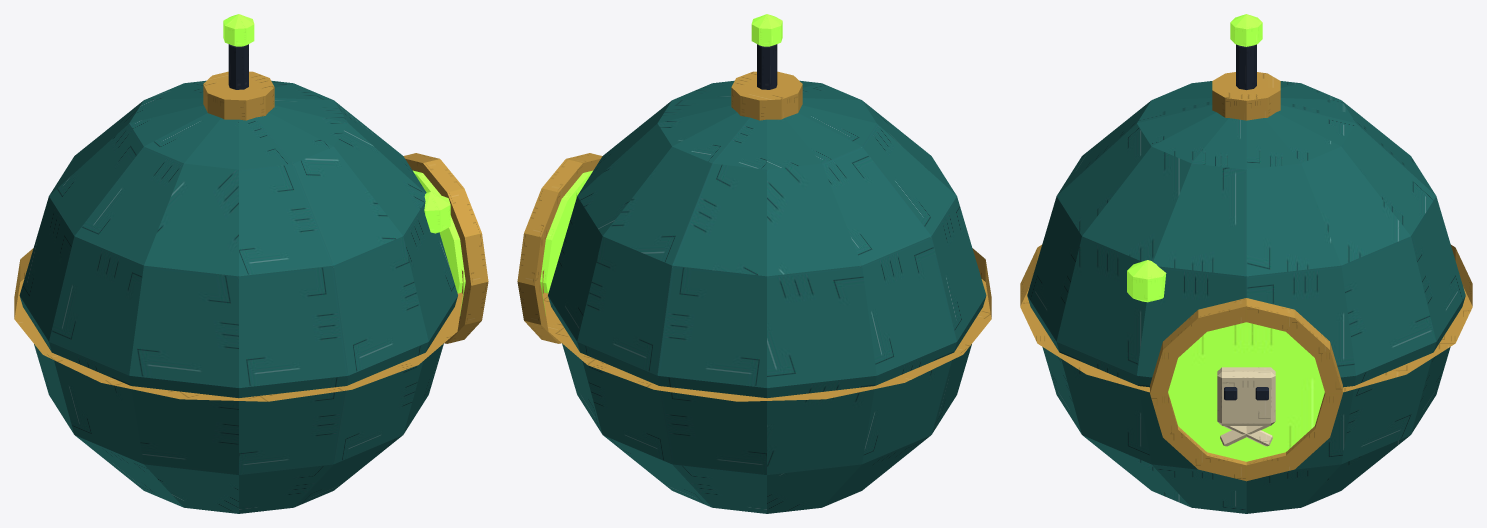
File: venom.glb
3 renders of one model, left to right at view 1: azimuth 30°, elevation 25°; view 2: azimuth 150°, elevation 25°; view 3: azimuth 270°, elevation 25°, orthographic.
Visible parts, largest first — view 1: body, fuse; view 2: body, fuse; view 3: body, fuse.
Boxes of the visible parts, left/top/right/bottom form: body: left=14, top=71, right=488, bottom=513; fuse: left=223, top=14, right=254, bottom=89; body: left=517, top=71, right=991, bottom=513; fuse: left=751, top=14, right=782, bottom=89; body: left=1020, top=72, right=1472, bottom=513; fuse: left=1230, top=14, right=1262, bottom=89.
Bounding box in the file's own units: 0.363 × 0.3987 × 0.3406.
Materials: 5 (5 with a texture image).
